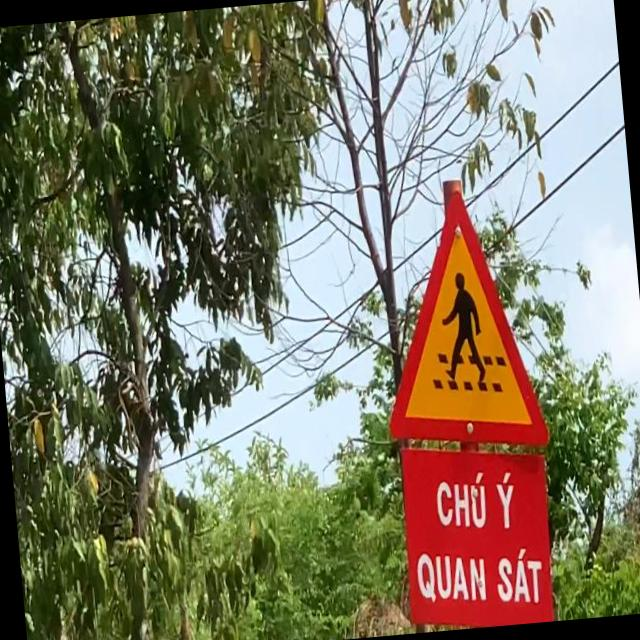W-224: (366, 171, 552, 460)
